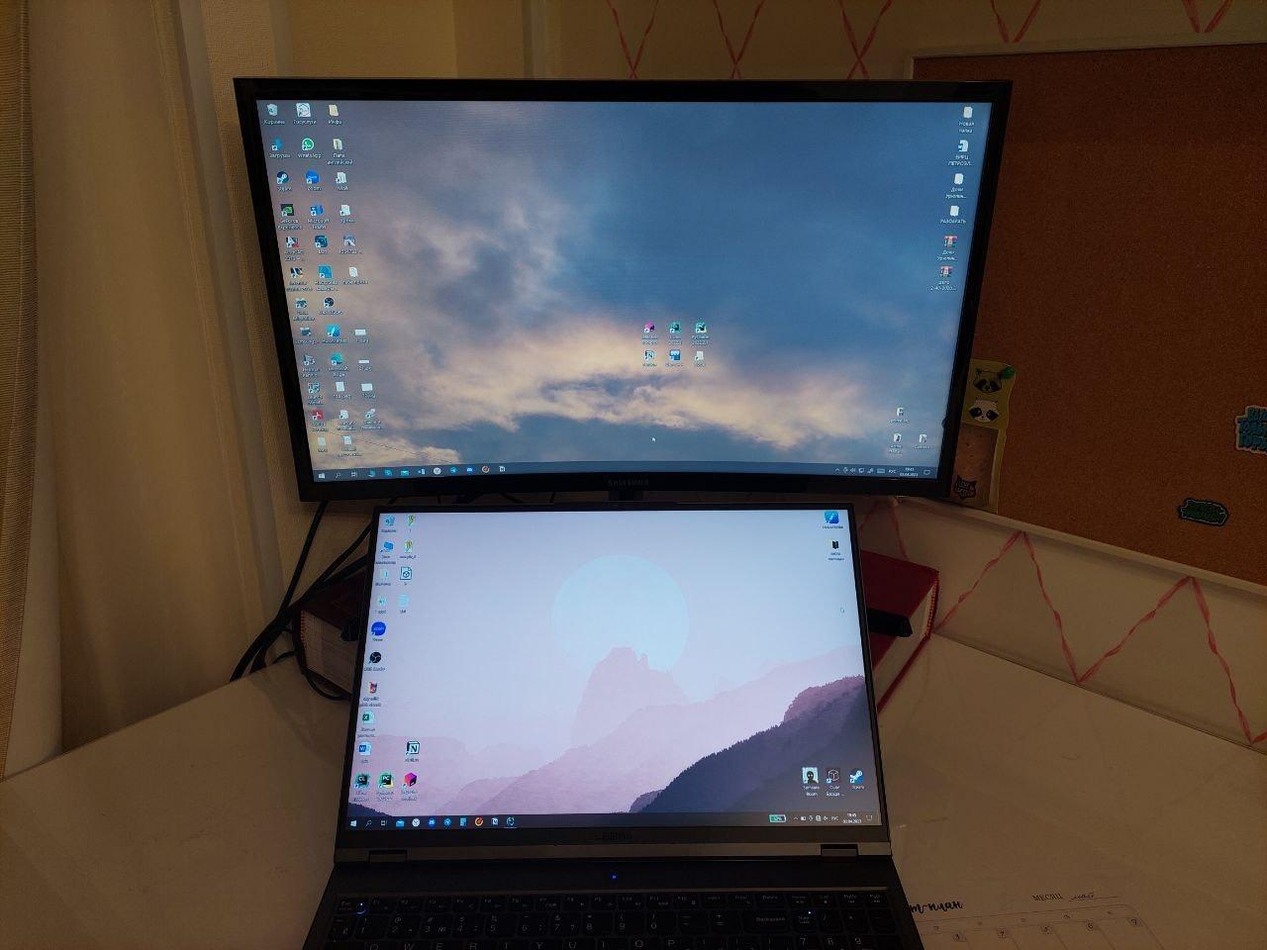monitor: (228, 72, 1020, 503), (337, 498, 901, 862)
